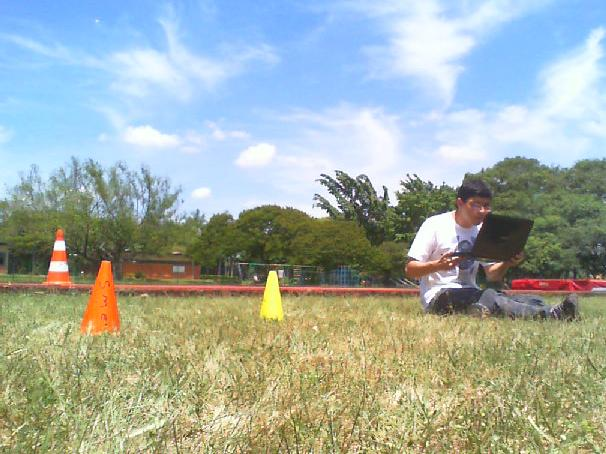0 cone: (78, 261, 120, 336), (40, 229, 72, 285), (259, 271, 284, 321)
